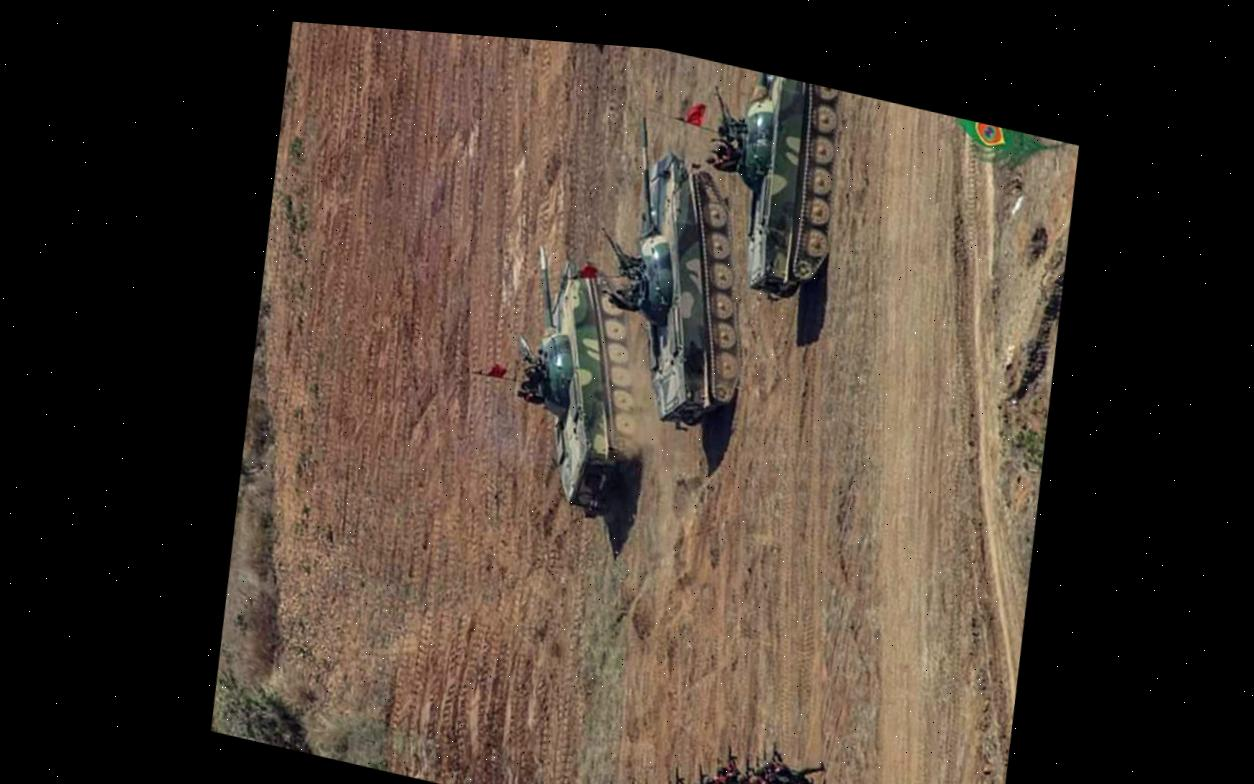tank: (595, 119, 779, 445), (491, 239, 676, 539), (682, 60, 856, 316)
